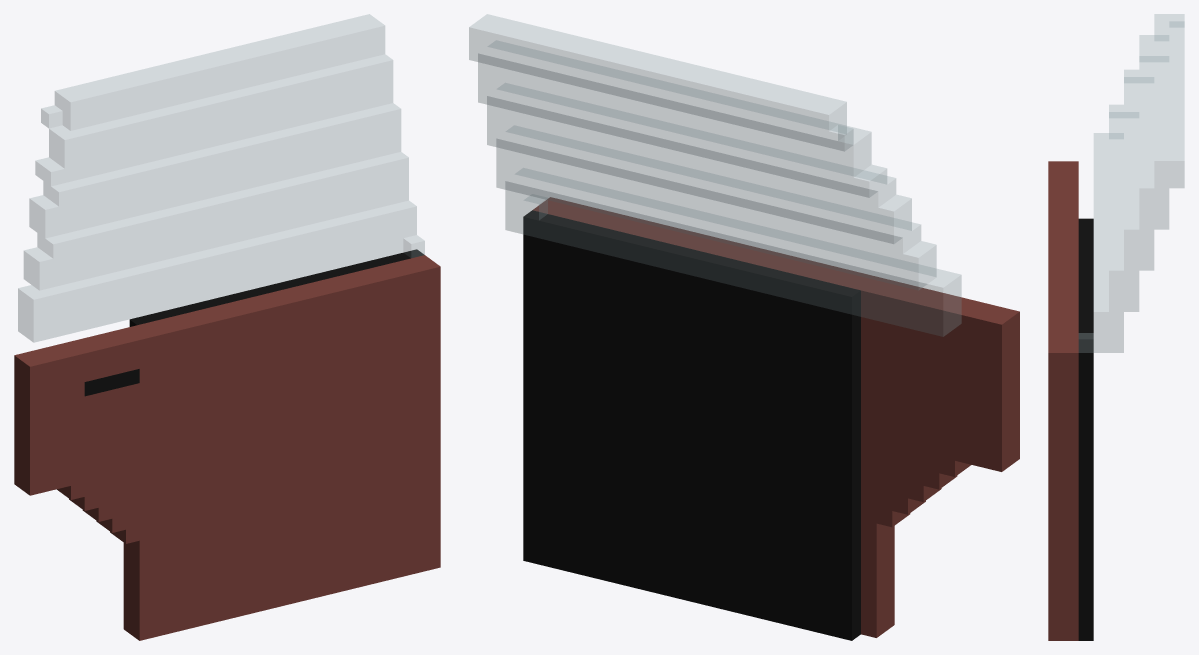
The model's file is estate_rear_door.glb.
3 views of the same model, side by side, from view 1: azimuth 30°, elevation 25°; view 2: azimuth 150°, elevation 25°; view 3: azimuth 270°, elevation 25° (orthographic). The views are drawn at different scales.
Parts seen in each view (by area): view 1: body:compound; view 2: body:compound; view 3: body:compound.
Boxes of the visible parts, x1,y1,x2,y2 form: body:compound: (14, 14, 440, 640); body:compound: (469, 14, 1019, 640); body:compound: (1048, 14, 1184, 640).
Bounding box in the file's own units: 0.9375 × 1.09 × 0.2812.
